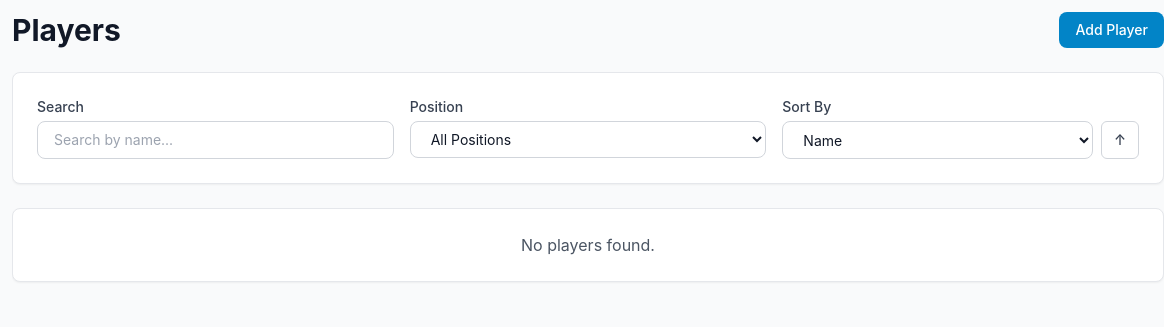
Scenario: PlayerListPage › should show filter hint when empty with filters
Check: the text "No players found." is shown, box 521,235 -> 655,255
Note: Type in search
Type "Nonexistent" into the field with placeholder "Search by name...".
click(215, 140); type("Nonexistent")  # box 37,121 -> 394,159
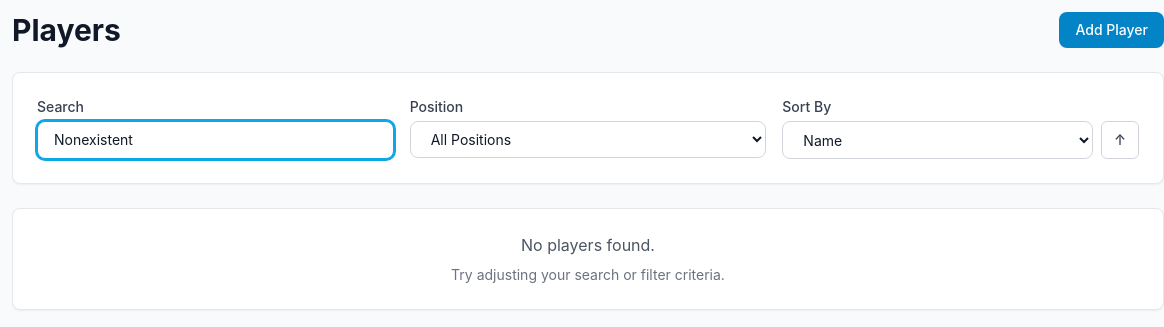
Check: the text "Try adjusting your search or filter criteria." is shown, box 451,266 -> 725,283
